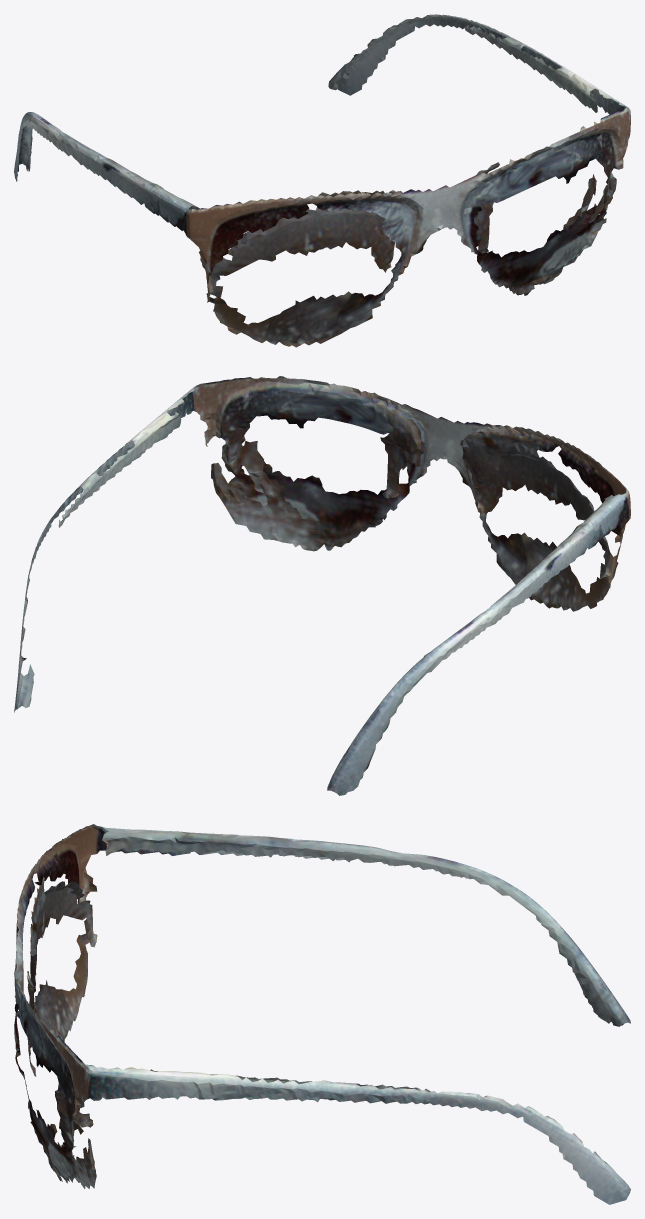
File: scan_align.obj
3 views of the same model, one above another, from view 1: azimuth 30°, elevation 25°; view 2: azimuth 150°, elevation 25°; view 3: azimuth 270°, elevation 25° (orthographic). The views are drawn at different scales.
Bounding box in the file's own units: 0.1392 × 0.0481 × 0.1472.
Materials: 1 (1 with a texture image).
